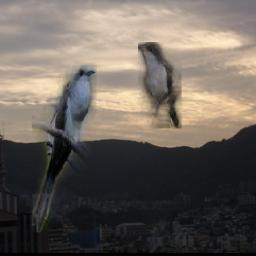Cuckoo: (31, 66, 96, 233), (137, 42, 181, 129)
